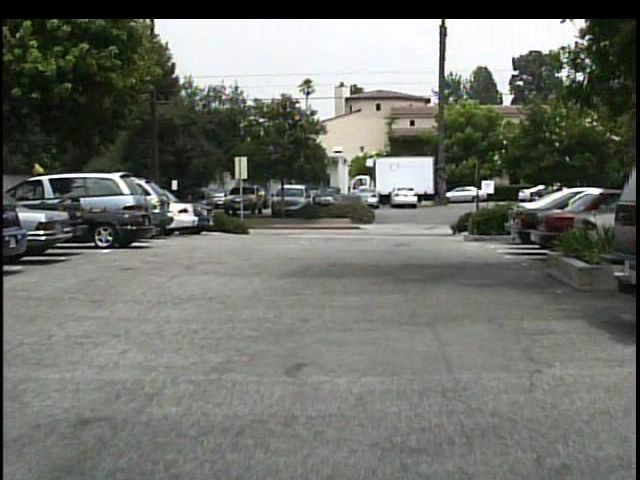person: (181, 186, 200, 223)
